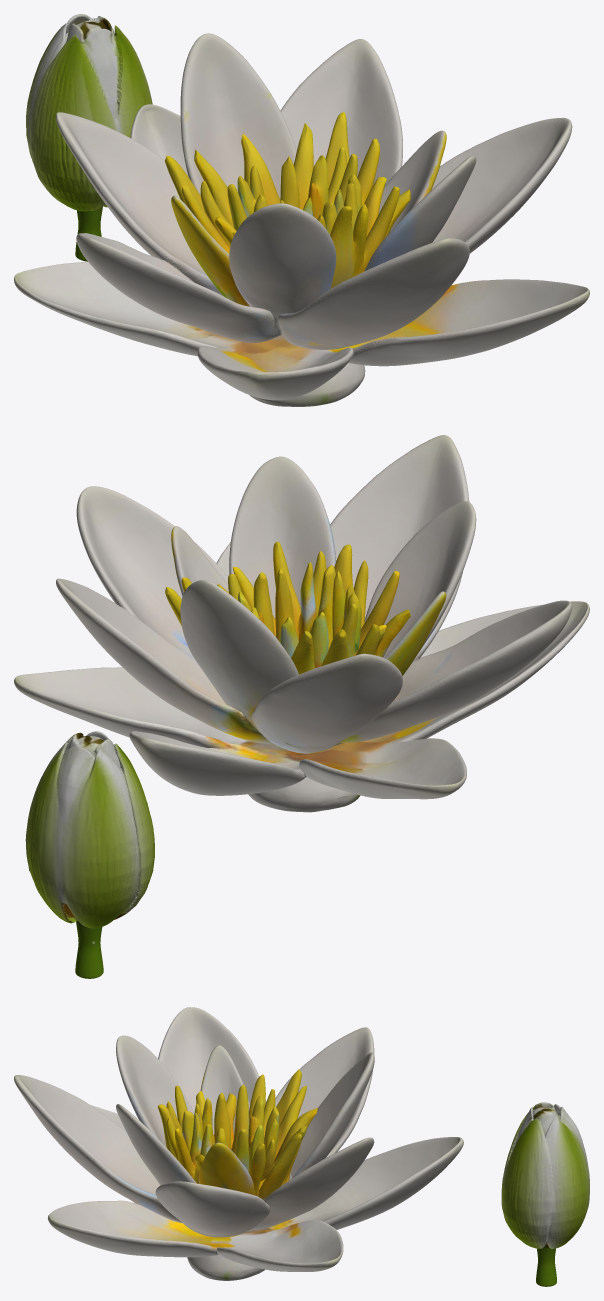
The model's file is asset.glb.
3 views of the same model, one above another, from view 1: azimuth 30°, elevation 25°; view 2: azimuth 150°, elevation 25°; view 3: azimuth 270°, elevation 25° (orthographic). The views are drawn at different scales.
Visible parts, largest first — view 1: tripo_part_11, tripo_part_17, tripo_part_4, tripo_part_5, tripo_part_14, tripo_part_10, tripo_part_0, tripo_part_9, tripo_part_13, tripo_part_15, tripo_part_7, tripo_part_3 (+5 smaller); view 2: tripo_part_17, tripo_part_7, tripo_part_9, tripo_part_11, tripo_part_0, tripo_part_14, tripo_part_4, tripo_part_5, tripo_part_10, tripo_part_3, tripo_part_16, tripo_part_13 (+6 smaller); view 3: tripo_part_5, tripo_part_11, tripo_part_17, tripo_part_0, tripo_part_16, tripo_part_4, tripo_part_7, tripo_part_9, tripo_part_14, tripo_part_13, tripo_part_15, tripo_part_3 (+3 smaller).
Boxes of the visible parts, x1,y1,x2,y2 form: tripo_part_11: [165, 112, 410, 276]; tripo_part_17: [26, 14, 152, 211]; tripo_part_4: [171, 170, 354, 313]; tripo_part_5: [308, 279, 589, 366]; tripo_part_14: [180, 33, 296, 199]; tripo_part_10: [14, 261, 353, 400]; tripo_part_0: [267, 238, 469, 349]; tripo_part_9: [280, 41, 572, 253]; tripo_part_13: [56, 112, 207, 275]; tripo_part_15: [282, 39, 402, 182]; tripo_part_7: [76, 233, 279, 342]; tripo_part_3: [368, 155, 476, 269]; tripo_part_17: [25, 731, 154, 928]; tripo_part_7: [252, 600, 572, 753]; tripo_part_9: [59, 486, 236, 720]; tripo_part_11: [165, 542, 410, 674]; tripo_part_0: [330, 435, 469, 661]; tripo_part_14: [162, 580, 298, 742]; tripo_part_4: [257, 501, 476, 697]; tripo_part_5: [14, 542, 292, 754]; tripo_part_10: [294, 601, 581, 799]; tripo_part_3: [174, 456, 336, 703]; tripo_part_16: [129, 731, 306, 795]; tripo_part_13: [251, 653, 402, 749]; tripo_part_5: [47, 1200, 343, 1271]; tripo_part_11: [157, 1069, 317, 1199]; tripo_part_17: [501, 1102, 589, 1248]; tripo_part_0: [14, 1075, 215, 1237]; tripo_part_16: [263, 1137, 463, 1230]; tripo_part_4: [116, 1035, 249, 1152]; tripo_part_7: [158, 1007, 370, 1151]; tripo_part_9: [155, 1137, 374, 1237]; tripo_part_14: [269, 1052, 374, 1227]; tripo_part_13: [275, 1027, 374, 1157]; tripo_part_15: [266, 1137, 374, 1223]; tripo_part_3: [116, 1104, 253, 1194].
Bounding box in the file's own units: 0.7275 × 0.4402 × 1.
Materials: 20 (20 with a texture image).
